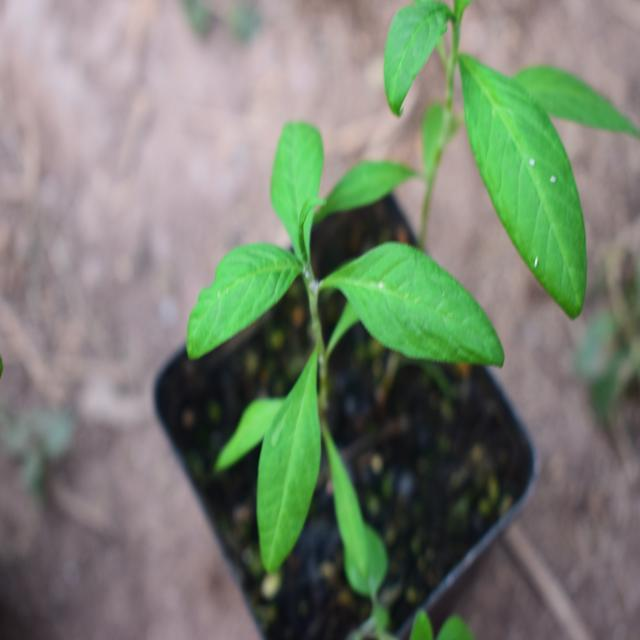white_smart_weed: (193, 110, 472, 568)
